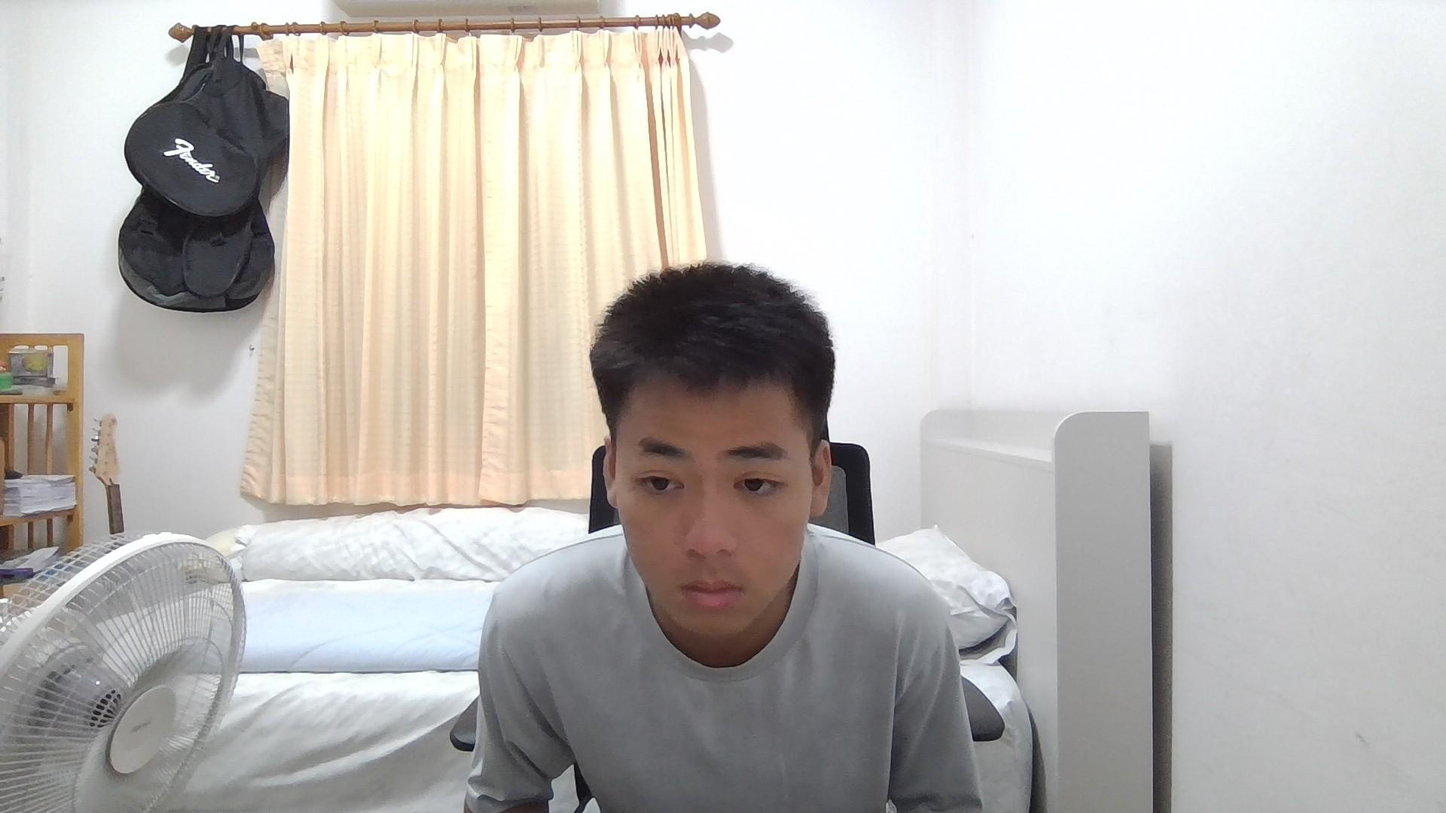BadPosture: (464, 263, 991, 812)
